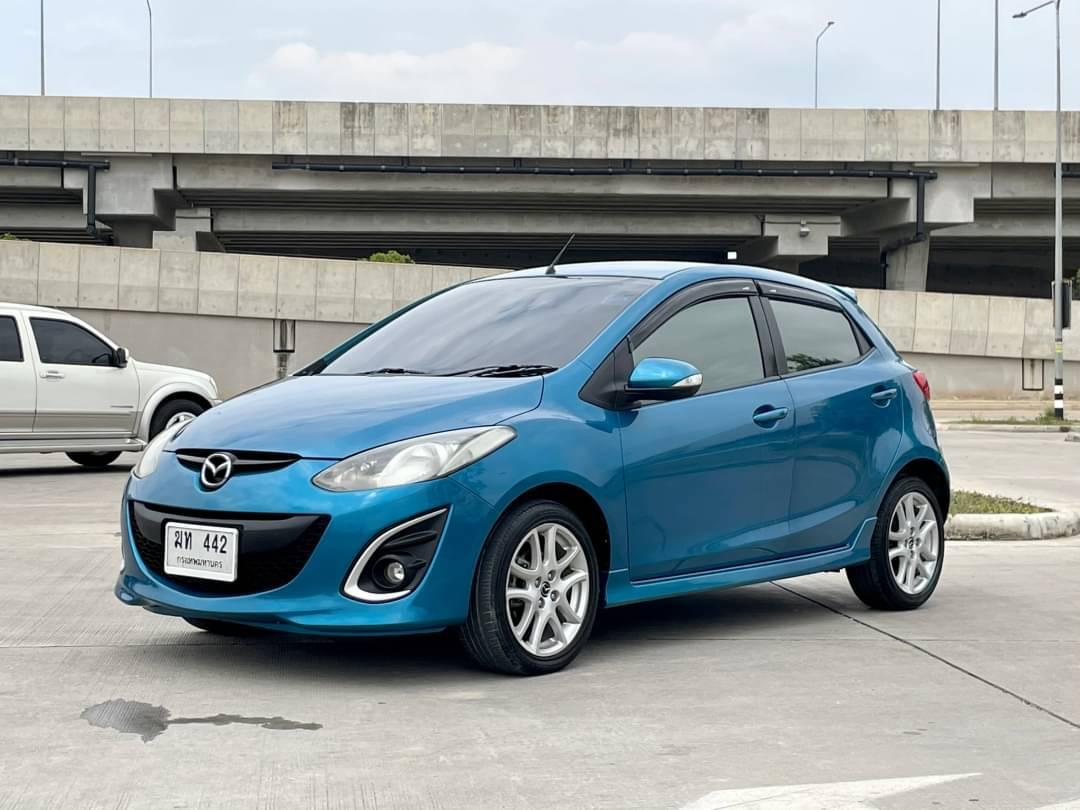license-plate: (153, 513, 254, 589)
